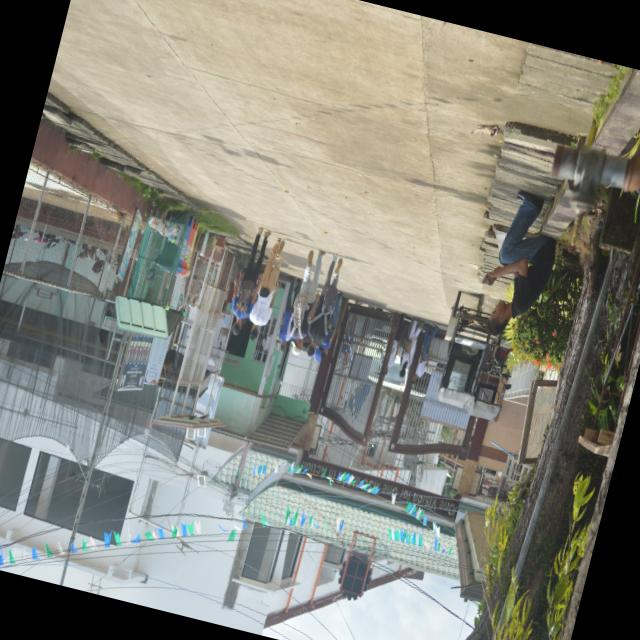person: (483, 190, 555, 335), (232, 227, 269, 334), (249, 238, 284, 339), (291, 250, 324, 354), (310, 253, 342, 318), (278, 276, 300, 350), (412, 323, 438, 382), (320, 291, 342, 358), (382, 313, 405, 374), (399, 317, 422, 376)
